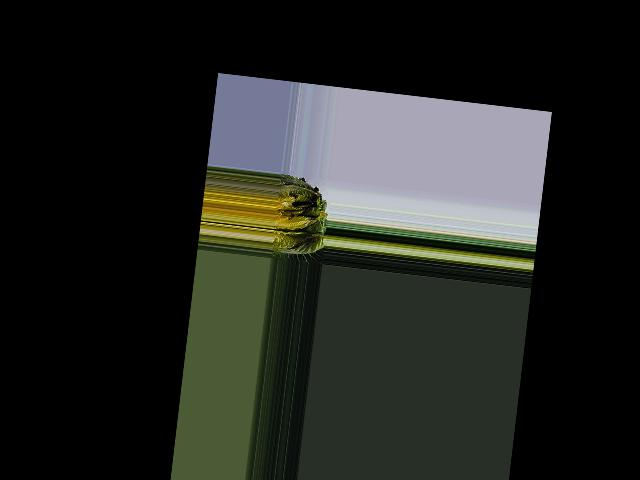lettuce: (270, 176, 329, 264)
